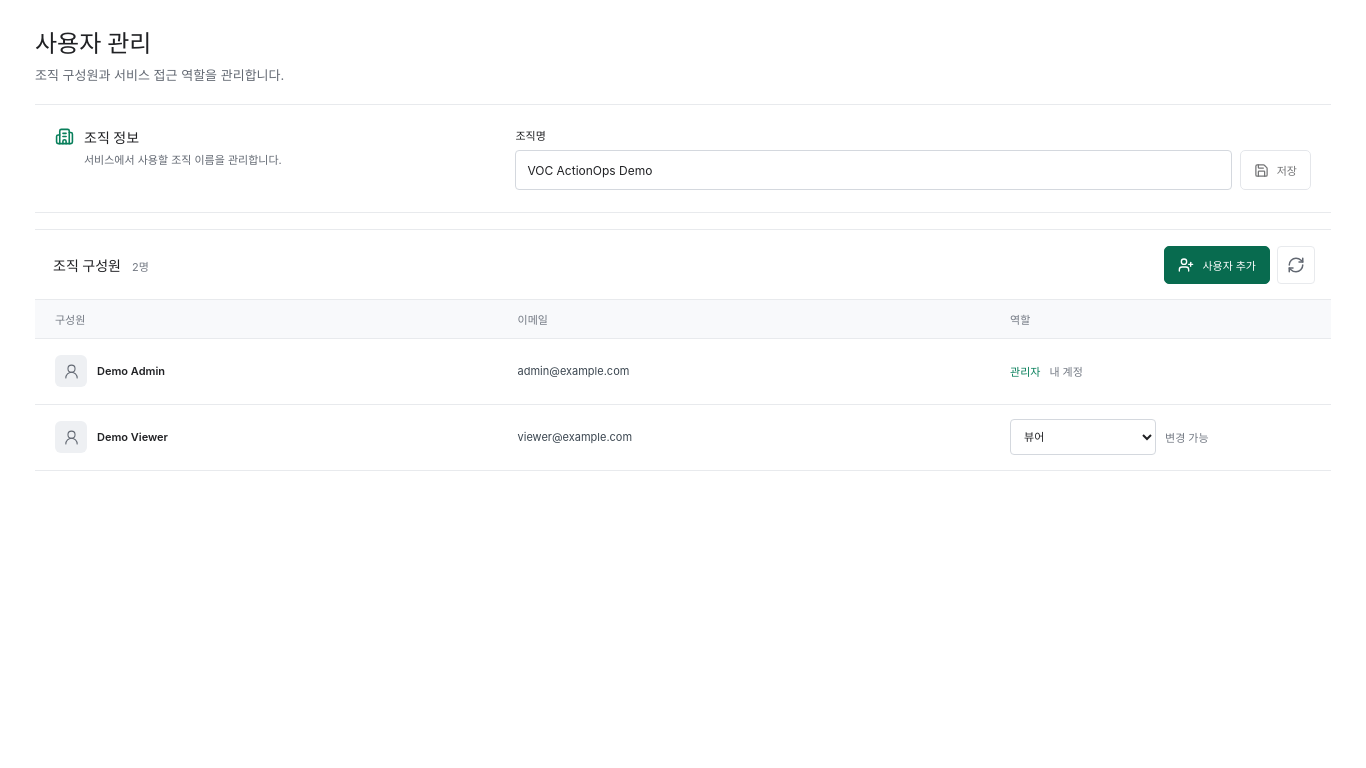
it: UsersPage › adds a created user to the current list
Expected: the text "Demo Viewer" is shown, [97,430,168,444]
Click the button "사용자 추가": (1217, 264) [1164,246,1270,284]
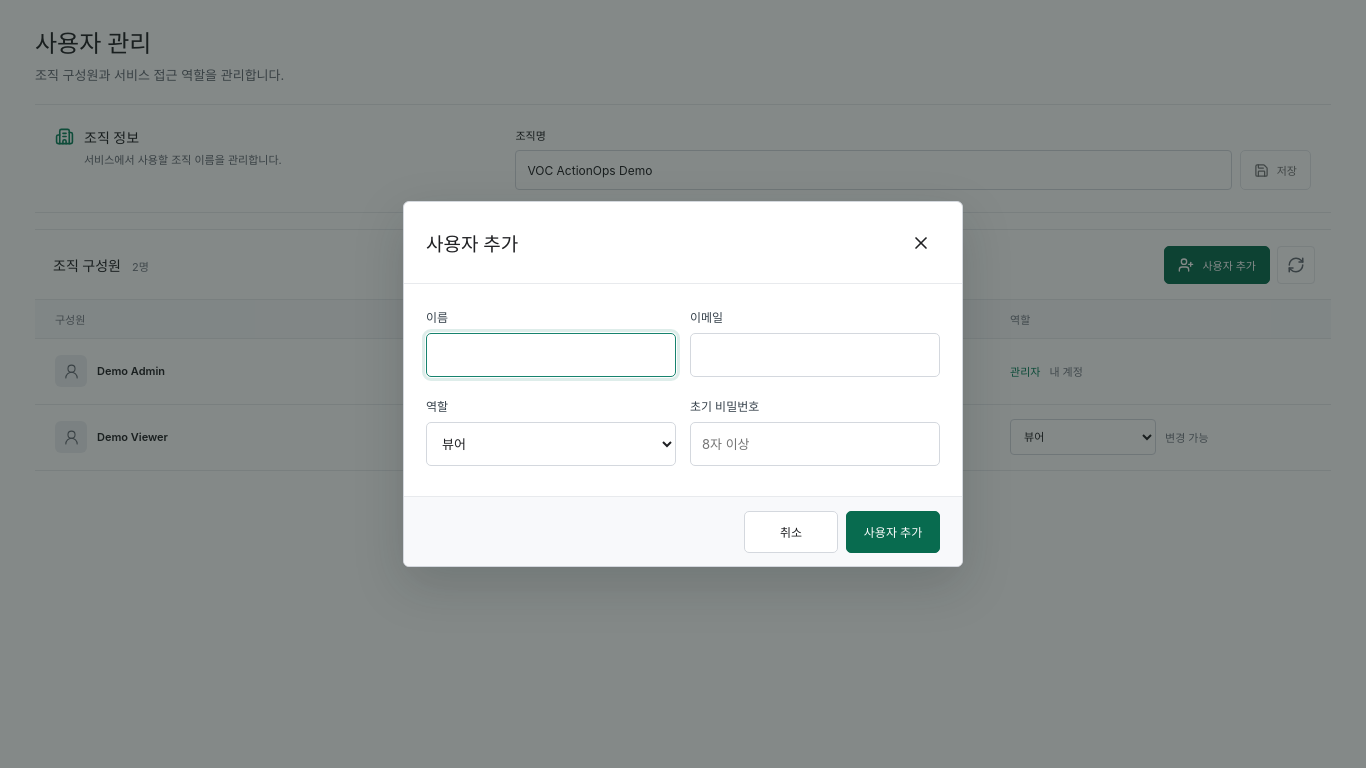
In the field labelled "이름": (551, 355) [426,333,676,377], type "New CS"
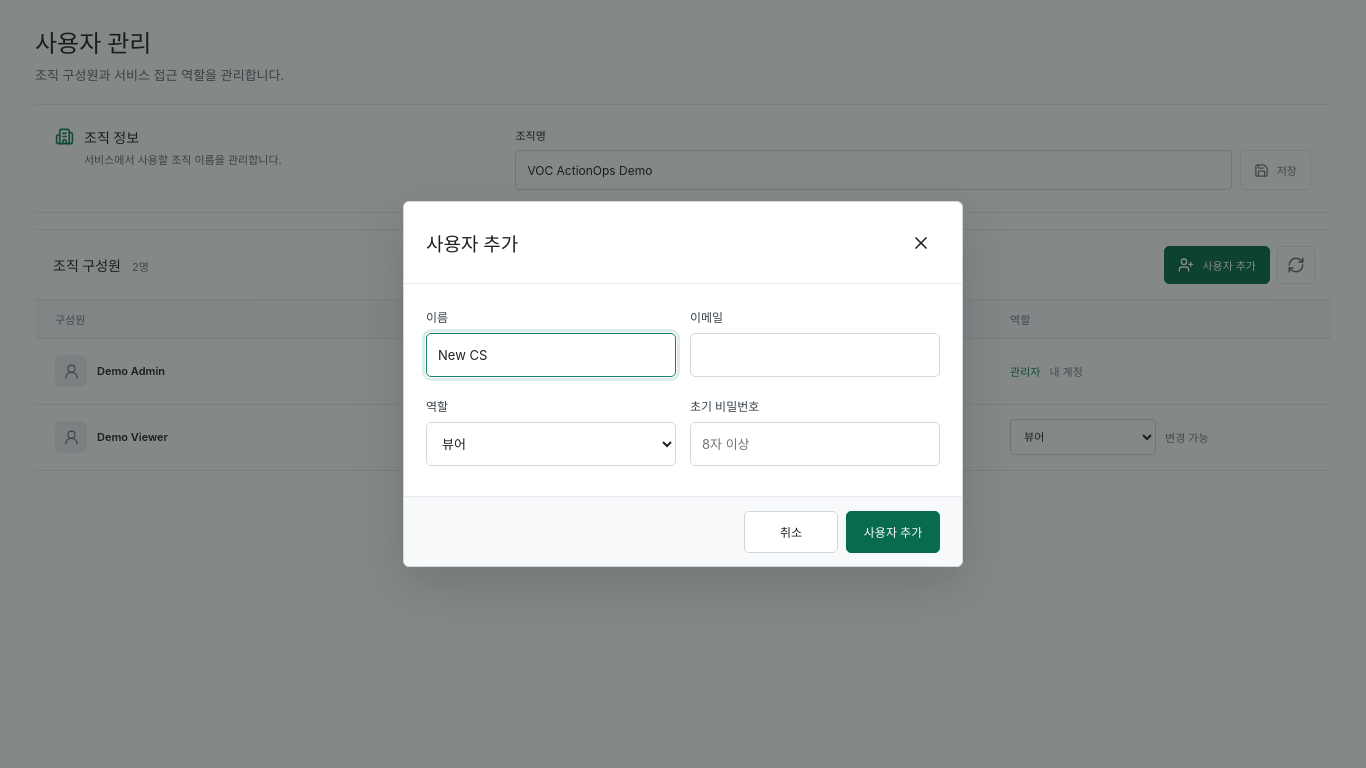
In the field labelled "이메일": (815, 355) [690,333,940,377], type "cs@example.com"
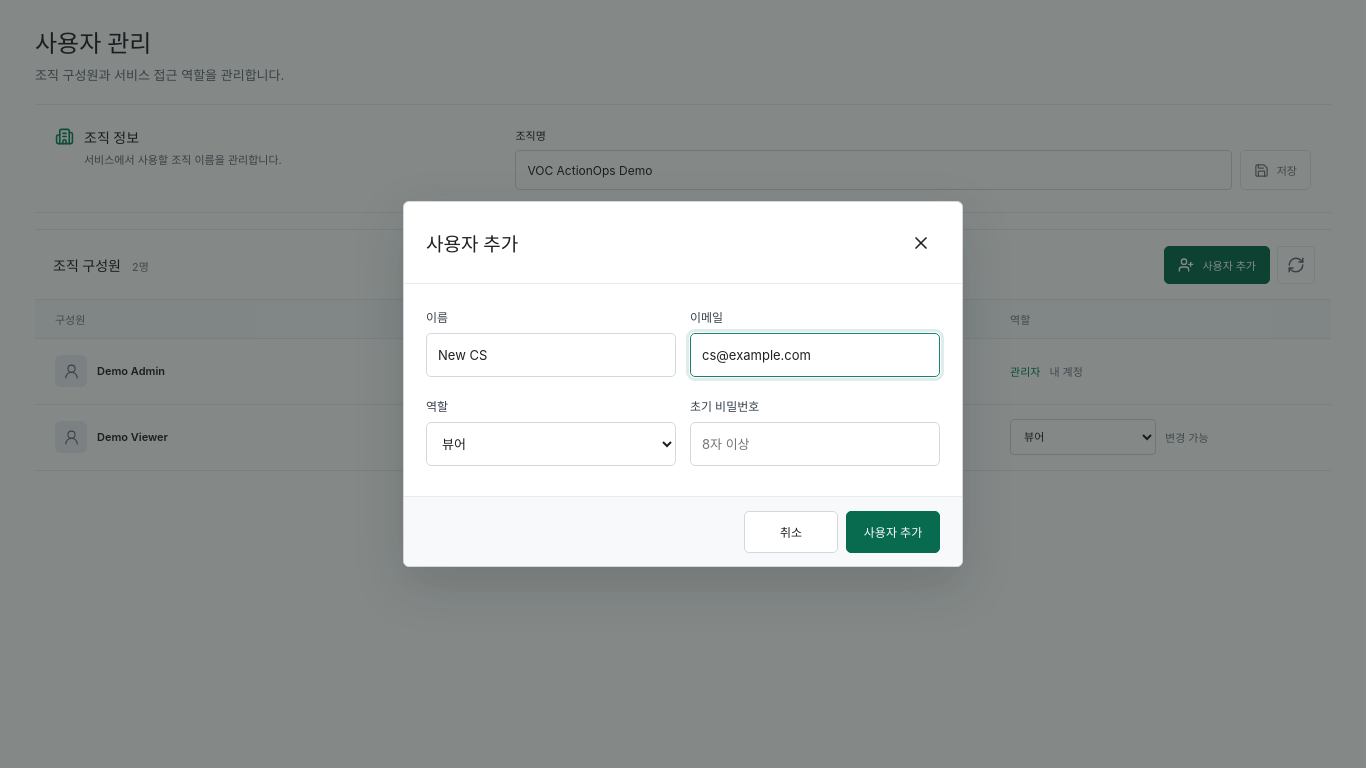
In the password field labelled "초기 비밀번호": (815, 444) [690,422,940,466], type "Password123!"
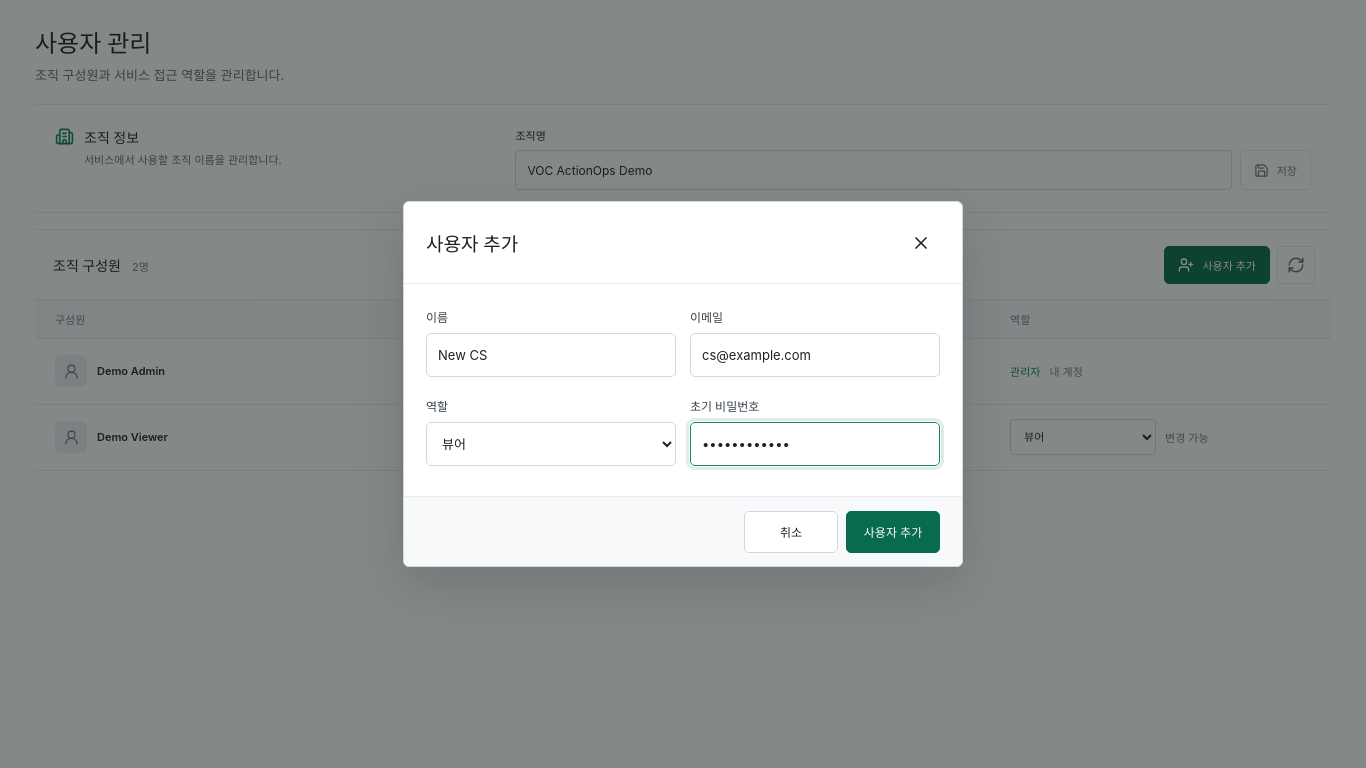
Select "고객 지원" in the dropdown labelled "역할": (551, 444) [426,422,676,466]
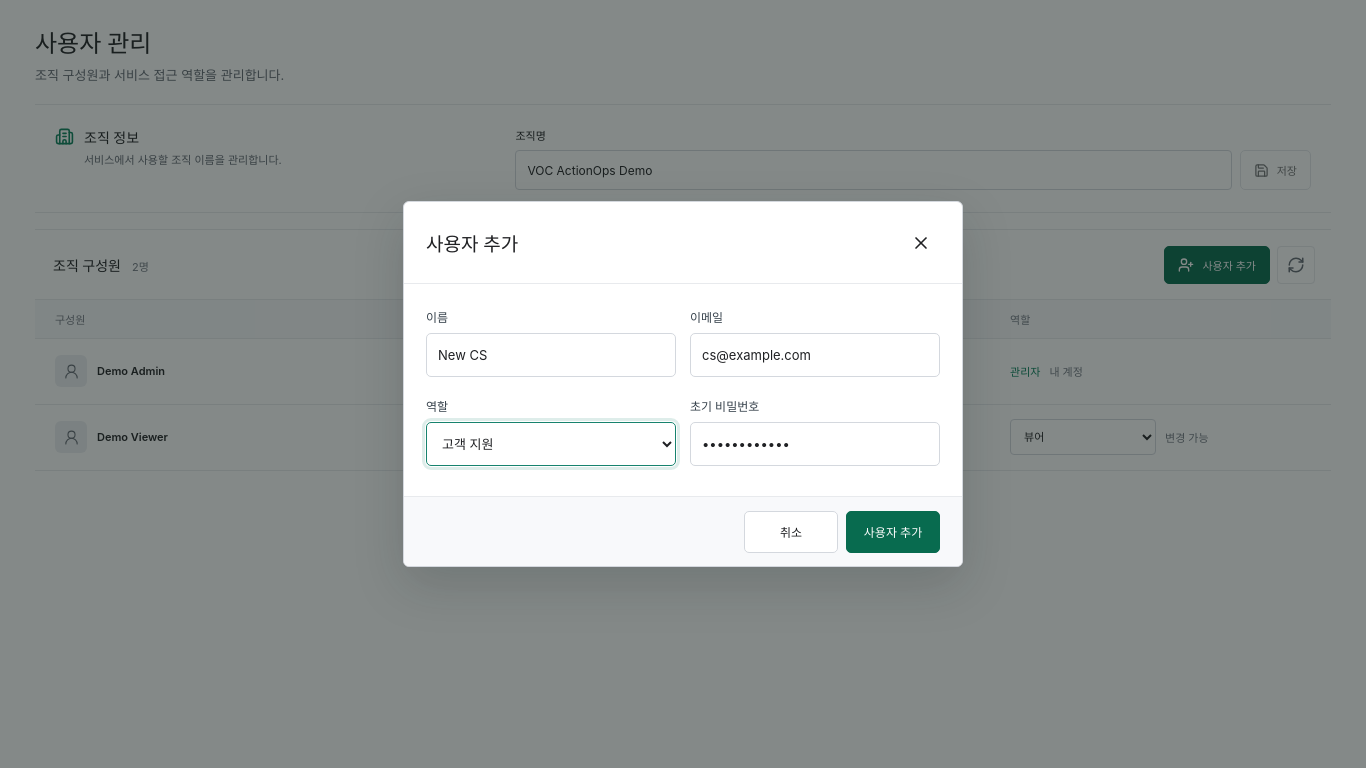
Click the button "사용자 추가": (893, 532) [846,510,940,552]
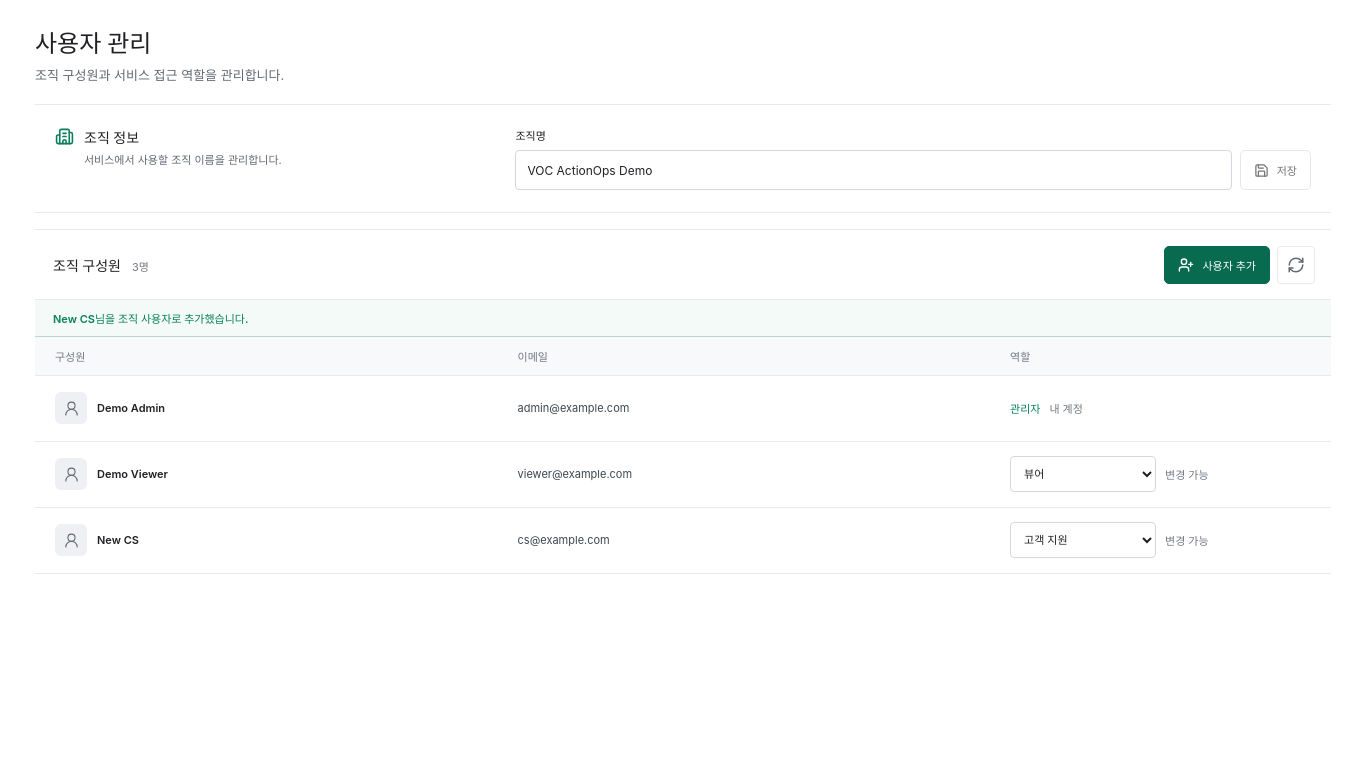
Now the text "New CS님을 조직 사용자로 추가했습니다." is shown, box [35,300,1331,337]
Now the text "3명" is shown, box [132,258,149,274]
Now the text "cs@example.com" is shown, box [502,507,994,573]
